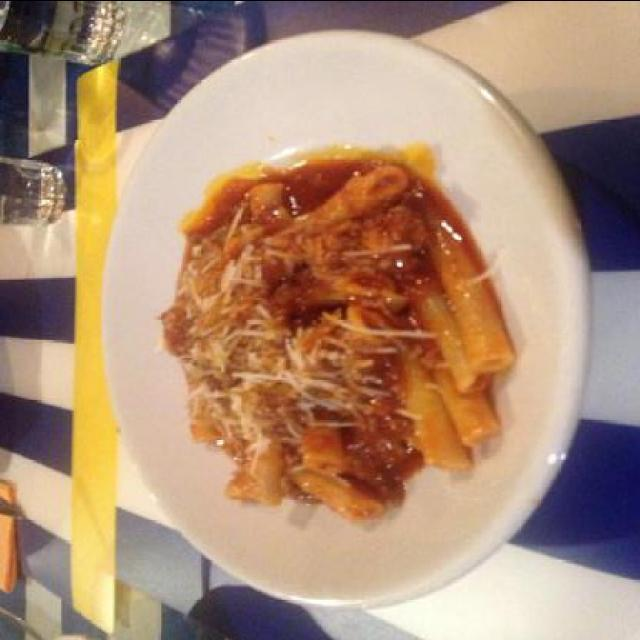Pasta al ragu: (121, 119, 550, 538)
